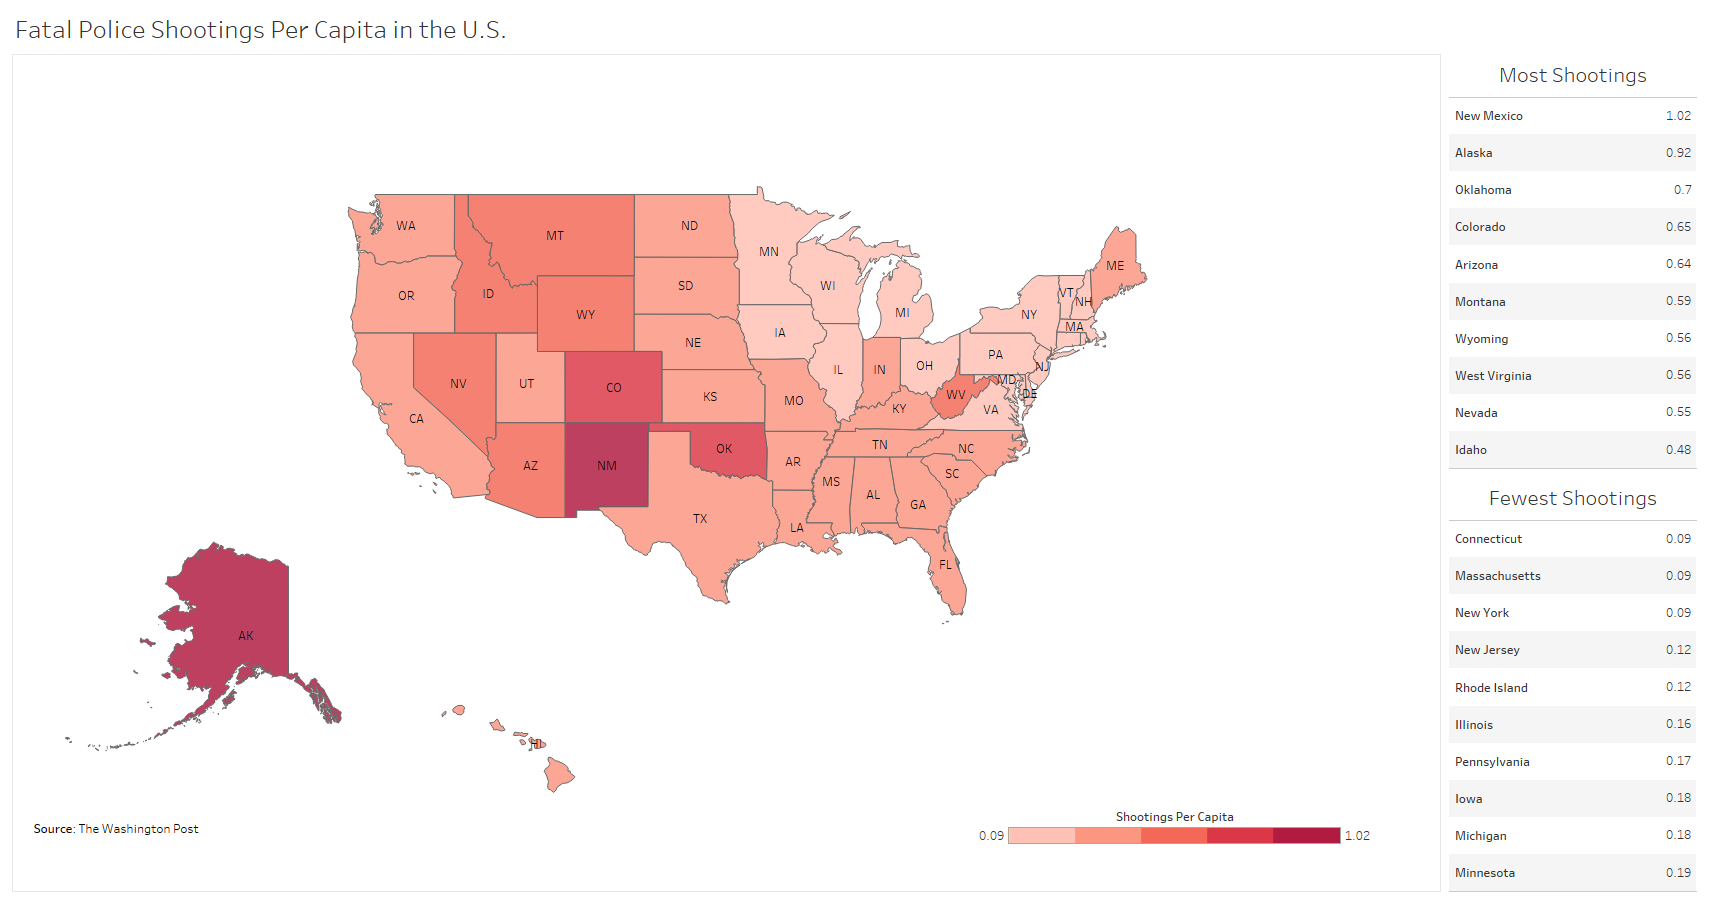

Layout of this report page (visuals, bound fields, positions):
{"tool":"tableau","page":{"name":"Per Capita Shootings","canvas":[1000,1000],"units":"permille","ordinal":0},"visuals":[{"type":"title","box":[4.7,8.8,990.6,46.5]},{"type":"worksheet","title":"Continental US Shootings Per Capital","mark":"Multipolygon","box":[4.7,55.3,840.8,935.8]},{"type":"worksheet","title":"Top 10 States Per Capita","mark":"Automatic","rows":["state"],"box":[845.5,55.3,149.8,467.9]},{"type":"worksheet","title":"Bottom 10 States Per Capita","mark":"Automatic","rows":["state"],"box":[845.5,523.2,149.8,467.9]},{"type":"worksheet","title":"Alaska","mark":"Multipolygon","box":[14,583.8,240,295]},{"type":"worksheet","title":"Hawaii","mark":"Multipolygon","box":[221,725,142,201.2]},{"type":"legend","title":"Continental US Shootings Per Capital","param":"[federated.0w31mp60a2apoy16alrqi1m8652j].[sum:per_capita:qk]","box":[570.7,889.4,233.8,95.1]},{"type":"text","box":[18.1,892.7,104.7,46.5]}]}

Visuals, with their boxes on the dashboard's canvas, which has no fixed pixel size, in thousandths of its width and height (x1, y1, x2, y2). These are canvas units, not pixel positions in the 1709x904 screenshot, which may show the page scaled, cropped or inside an application window:
title: <region>5, 9, 995, 55</region>
"Continental US Shootings Per Capital" worksheet (Multipolygon marks): <region>5, 55, 846, 991</region>
"Top 10 States Per Capita" worksheet: <region>846, 55, 995, 523</region>
"Bottom 10 States Per Capita" worksheet: <region>846, 523, 995, 991</region>
"Alaska" worksheet (Multipolygon marks): <region>14, 584, 254, 879</region>
"Hawaii" worksheet (Multipolygon marks): <region>221, 725, 363, 926</region>
"Continental US Shootings Per Capital" legend: <region>571, 889, 804, 984</region>
text: <region>18, 893, 123, 939</region>
